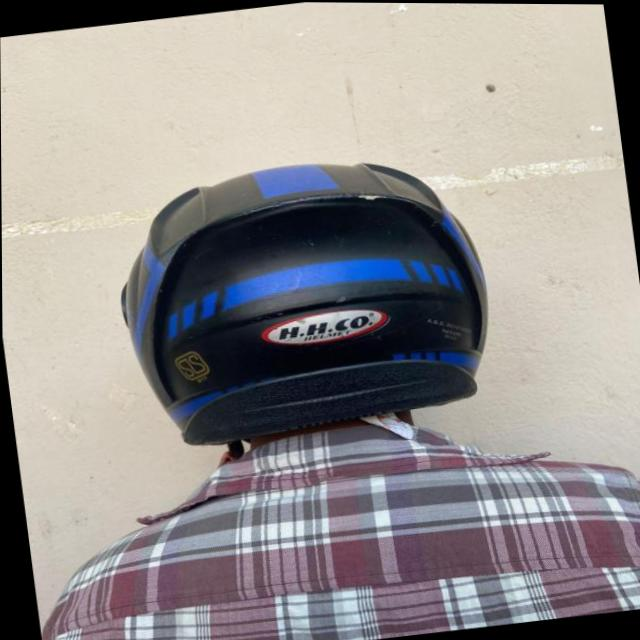helmet: (104, 143, 508, 479)
